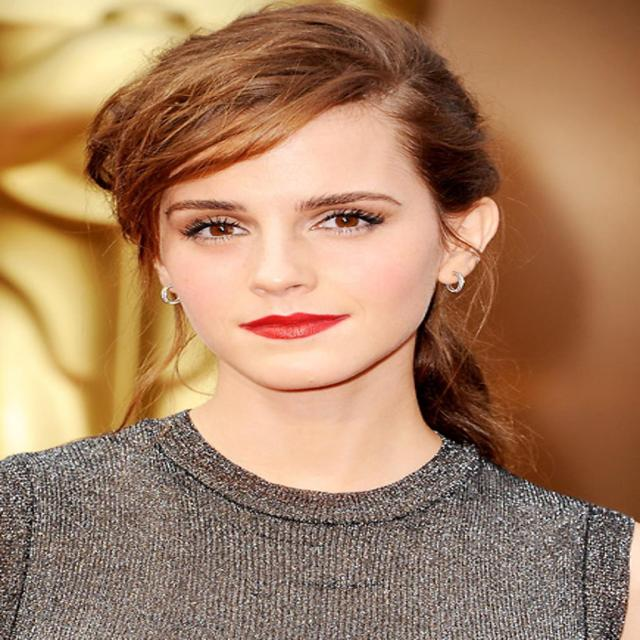Face: (123, 79, 481, 424)
